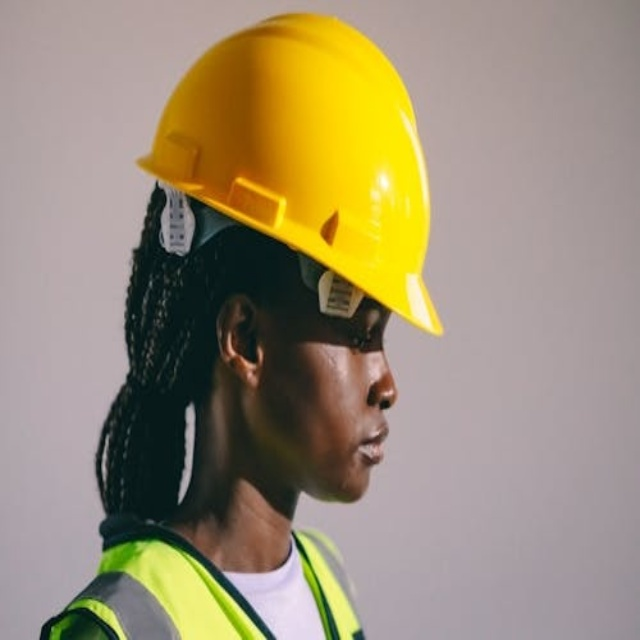Sin_gafas: (302, 317, 392, 357)
Sin_mascara: (320, 415, 390, 497)
